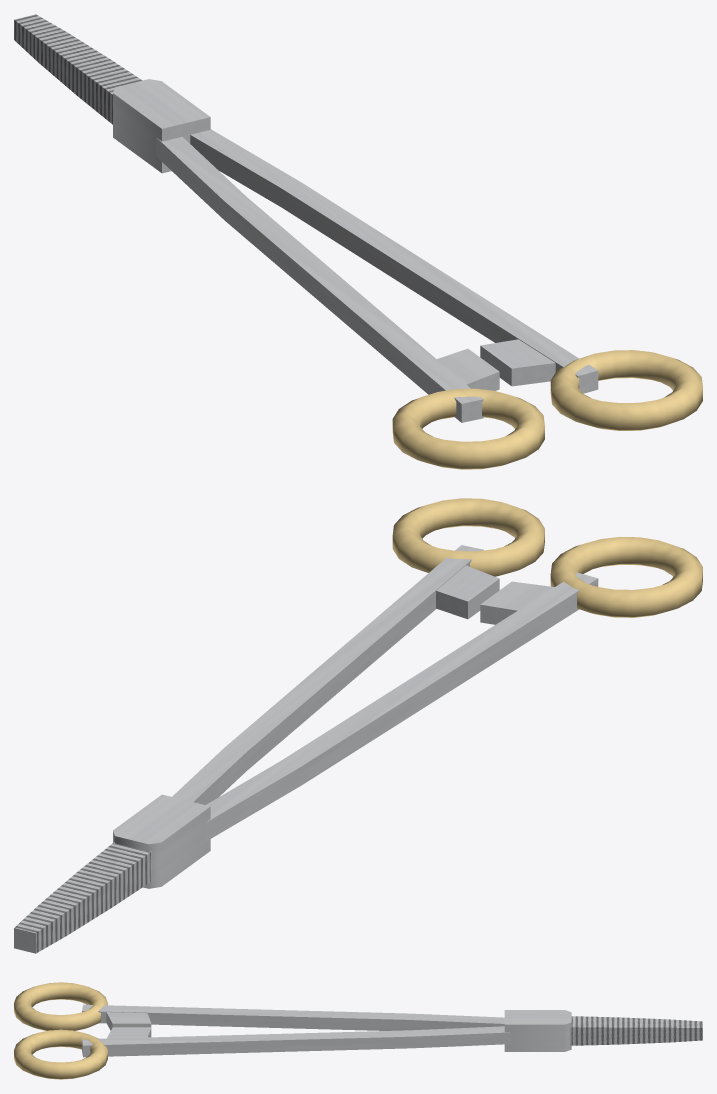
File: mayo_hegar.glb
3 renders of one model, top to bottom at view 1: azimuth 30°, elevation 25°; view 2: azimuth 150°, elevation 25°; view 3: azimuth 270°, elevation 25°, orthographic. The views are drawn at different scales.
Parts seen in each view (by area): view 1: s7_mayo_hegar; view 2: s7_mayo_hegar; view 3: s7_mayo_hegar.
Part boxes in pixels (x1,y1,x2,y2): s7_mayo_hegar: [14, 14, 702, 469]; s7_mayo_hegar: [14, 498, 702, 953]; s7_mayo_hegar: [14, 982, 702, 1079].
Bounding box in the file's own units: 0.0478 × 0.007 × 0.1599.
1 material, 1 textured.
